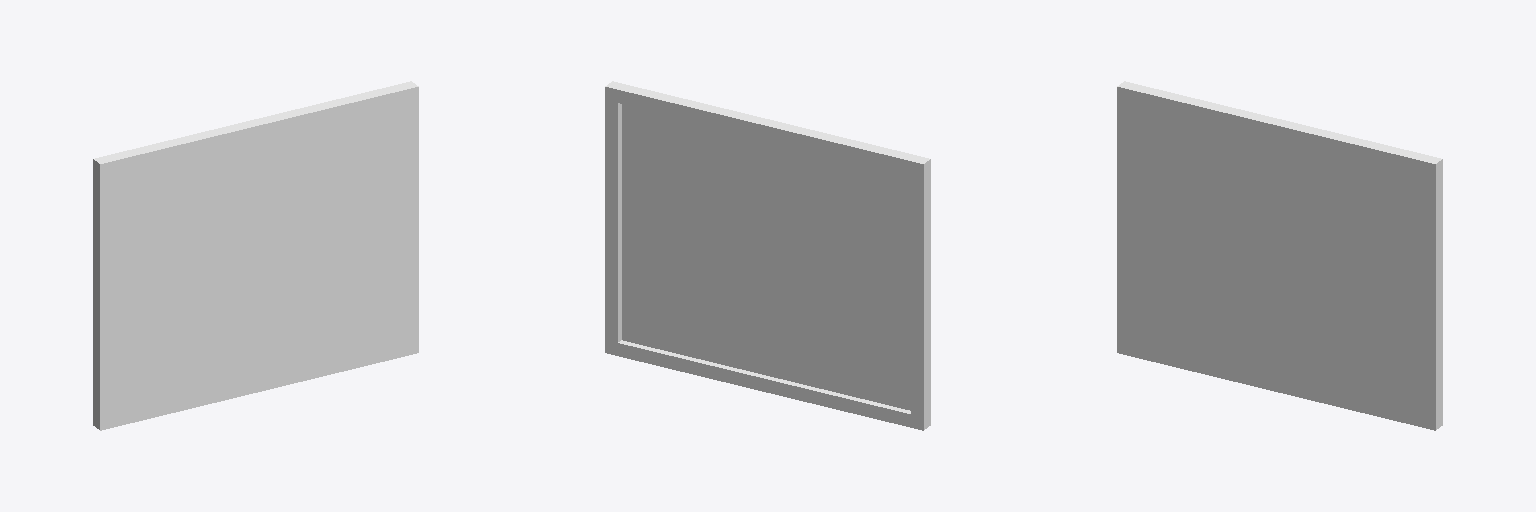
File: blackboard.obj
3 renders of one model, left to right at view 1: azimuth 30°, elevation 25°; view 2: azimuth 150°, elevation 25°; view 3: azimuth 330°, elevation 25°, orthographic.
Visible parts, largest first — view 1: object 1; view 2: object 1; view 3: object 1.
Boxes of the visible parts, x1=… form: object 1: x1=93, y1=81, x2=418, y2=430; object 1: x1=605, y1=81, x2=930, y2=430; object 1: x1=1117, y1=81, x2=1442, y2=430.
Size of the model in its own units: 5 by 4 by 0.2.